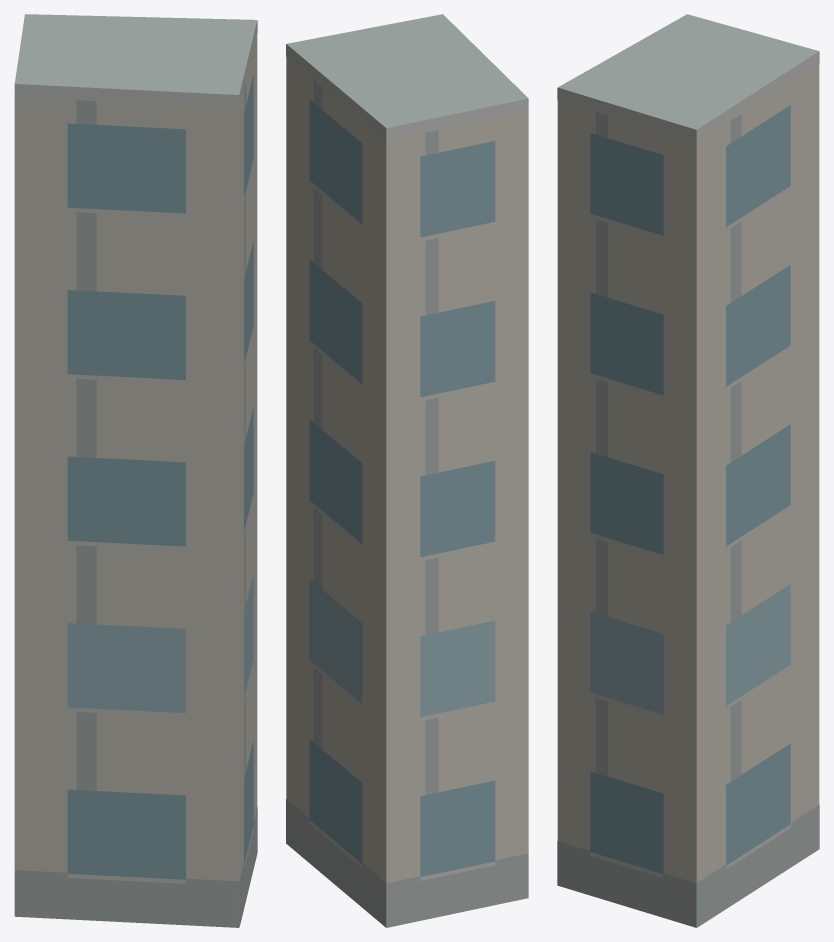
File: survey-upis-32901374.glb
3 renders of one model, left to right at view 1: azimuth 30°, elevation 25°; view 2: azimuth 150°, elevation 25°; view 3: azimuth 270°, elevation 25°, orthographic. The views are drawn at different scales.
Parts seen in each view (by area): view 1: survey-upis-32901374.tmp; view 2: survey-upis-32901374.tmp; view 3: survey-upis-32901374.tmp.
Part boxes in pixels (<box>): survey-upis-32901374.tmp: <box>14,14,257,927</box>; survey-upis-32901374.tmp: <box>286,14,528,927</box>; survey-upis-32901374.tmp: <box>557,14,819,927</box>.
Size of the model in its own units: 4.75 by 15.25 by 4.54.
